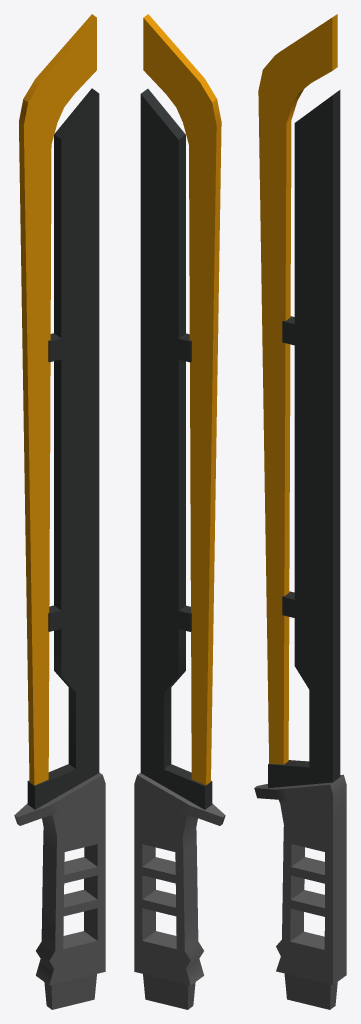
Rendered from weapon_blasterSword_model.fbx.
3 views of the same model, side by side, from view 1: azimuth 30°, elevation 25°; view 2: azimuth 150°, elevation 25°; view 3: azimuth 330°, elevation 25° (orthographic).
Parts seen in each view (by area): view 1: Blaster_Sword; view 2: Blaster_Sword; view 3: Blaster_Sword.
Part boxes in pixels (x1,y1,x2,y2): Blaster_Sword: (14, 14, 105, 1009); Blaster_Sword: (134, 14, 225, 1009); Blaster_Sword: (254, 14, 346, 1009).
Bounding box in the file's own units: 4.79 × 54.05 × 1.35.
